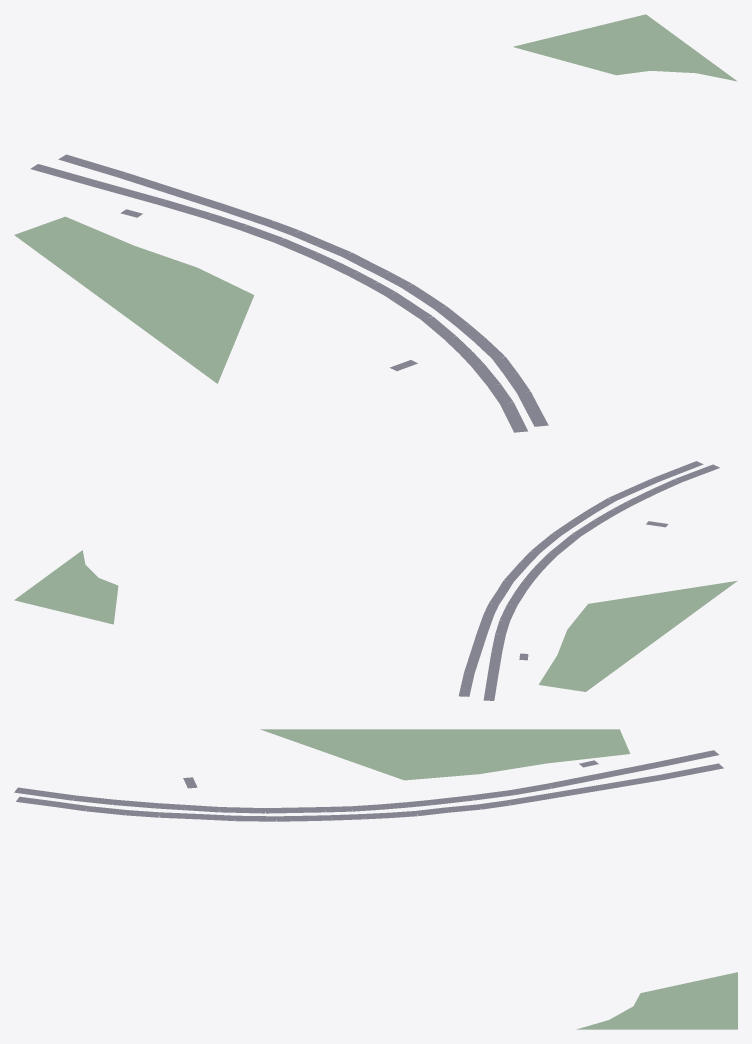
Rendered from 120_116_mid.glb.
The picture shows the model from 3 angles, top to bottom: view 1: azimuth 30°, elevation 25°; view 2: azimuth 150°, elevation 25°; view 3: azimuth 270°, elevation 25°; orthographic projection. The views are drawn at different scales.
Bounding box in the file's own units: 500 × 8.69 × 507.
